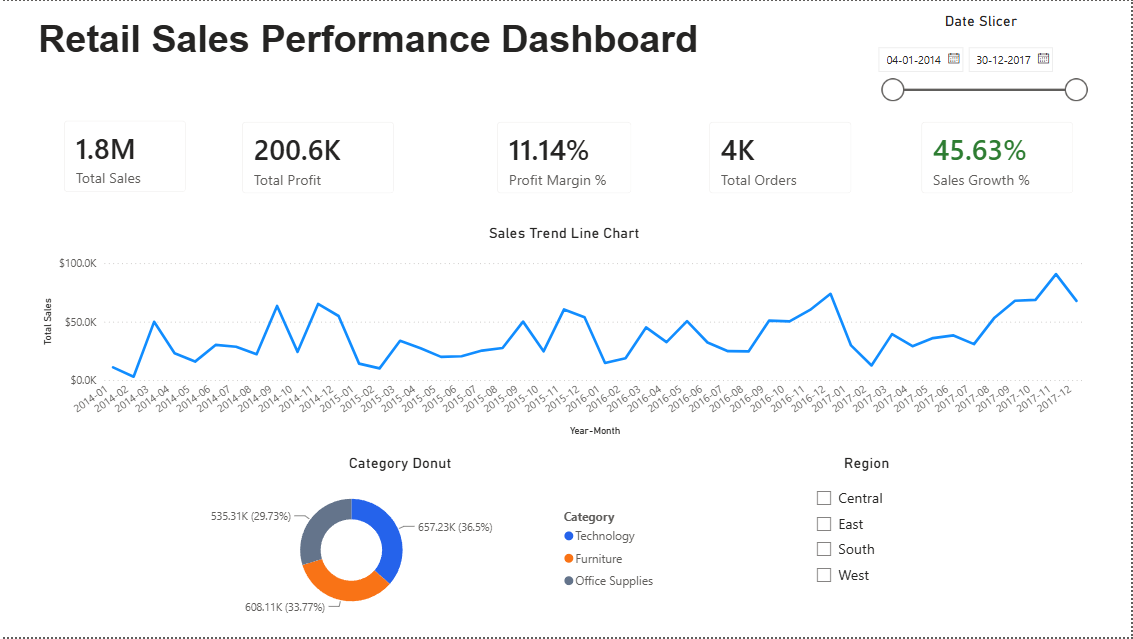

The page's visual inventory and layout, read from the dashboard file:
{"tool":"powerbi","page":{"name":"Retail Sales Performance Dashboard","canvas":[1280,720],"ordinal":0},"visuals":[{"type":"cardVisual","fields":{"Data":["_Measures.Total Sales"]},"box":[55.7,118.6,172.9,115.7],"z":0},{"type":"cardVisual","fields":{"Data":["_Measures.Total Profit"]},"box":[257.1,120,206.7,115],"z":1000},{"type":"cardVisual","fields":{"Data":["_Measures.Profit Margin %"]},"box":[545.7,120,186.7,115],"z":2000},{"type":"cardVisual","fields":{"Data":["_Measures.Total Orders"]},"box":[785.7,120,195,115],"z":3000},{"type":"lineChart","title":"Sales Trend Line Chart","fields":{"Y":["_Measures.Total Sales"],"Category":["DateTable.Year-Month"]},"box":[45,253.3,1188.3,245],"z":4000},{"type":"donutChart","title":"Category Donut","fields":{"Category":["Orders.Category"],"Y":["Sum(Orders.Sales)"]},"box":[152.9,512.9,600,187.1],"z":5000},{"type":"cardVisual","fields":{"Data":["_Measures.Sales Growth %"]},"box":[1025.7,120,206.7,115],"z":6000},{"type":"slicer","title":"Date Slicer","fields":{"Values":["DateTable.Date"]},"box":[981.4,12.9,257.1,107.1],"z":7000},{"type":"slicer","title":"Region","fields":{"Values":["Orders.Region"]},"box":[911.4,512.9,138.6,155.7],"z":8000},{"type":"textbox","box":[0,12.9,832.9,68.6],"z":9000}]}

Visuals, with their boxes in screenshot pixels (x1, y1, x2, y2), scaled from the page's 1280x720 canvas onto the 1133x639 screenshot:
cardVisual - _Measures.Total Sales: crop(49, 105, 202, 208)
cardVisual - _Measures.Total Profit: crop(228, 106, 411, 209)
cardVisual - _Measures.Profit Margin %: crop(483, 106, 648, 209)
cardVisual - _Measures.Total Orders: crop(695, 106, 868, 209)
"Sales Trend Line Chart" lineChart: crop(40, 225, 1092, 442)
"Category Donut" donutChart: crop(135, 455, 666, 621)
cardVisual - _Measures.Sales Growth %: crop(908, 106, 1091, 209)
"Date Slicer" slicer: crop(869, 11, 1096, 106)
"Region" slicer: crop(807, 455, 929, 593)
textbox: crop(0, 11, 737, 72)
